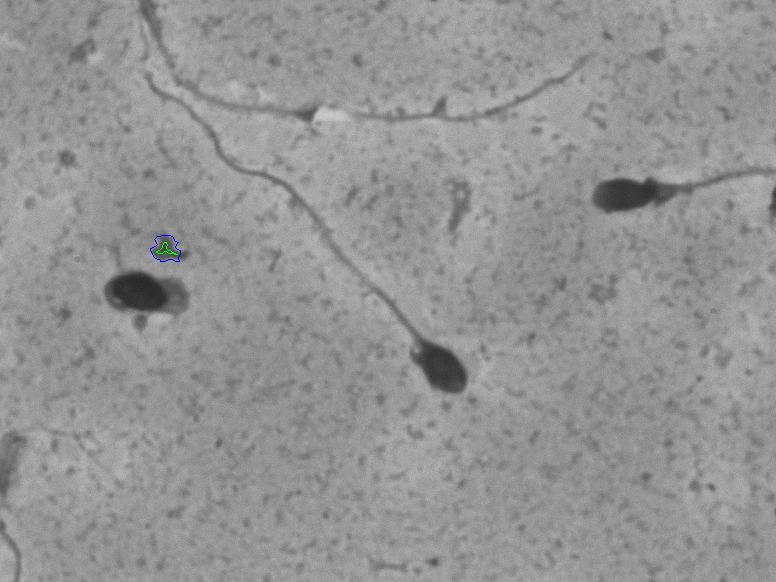Abnormal: (126, 61, 476, 409), (569, 122, 766, 273)
